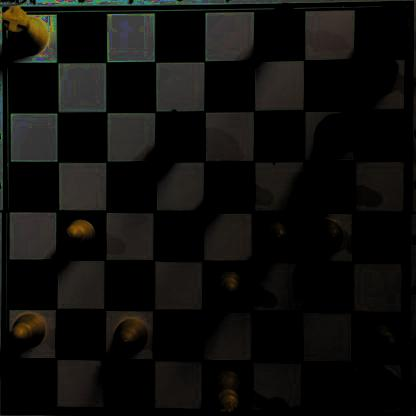black-bishop: (258, 1, 293, 54)
black-king: (313, 108, 365, 155)
black-knight: (158, 106, 197, 159)
black-pawn: (360, 56, 399, 95), (314, 169, 349, 204), (206, 168, 241, 202)
black-rook: (356, 1, 404, 55)
white-king: (205, 369, 247, 416)
white-pawn: (8, 309, 48, 349), (360, 319, 401, 357), (61, 216, 100, 255), (307, 216, 346, 254), (210, 266, 247, 306), (256, 218, 296, 255), (111, 317, 150, 353)
white-rook: (355, 362, 406, 411), (1, 3, 49, 55)
